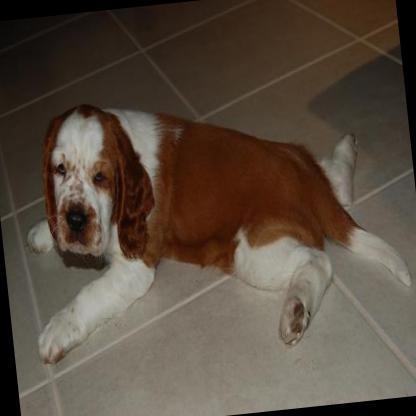Welsh_springer_spaniel: (11, 73, 413, 367)
